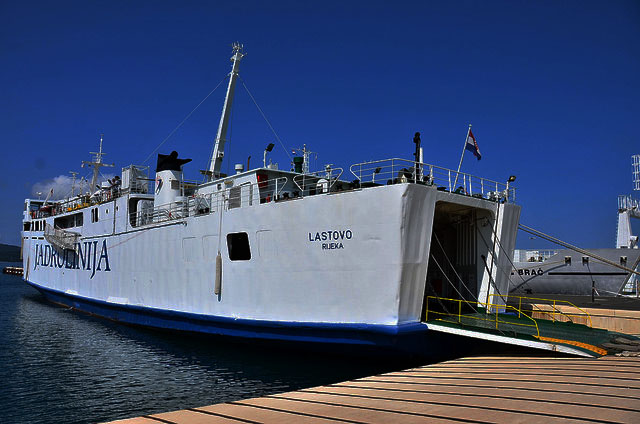PCC: (18, 136, 515, 338)
